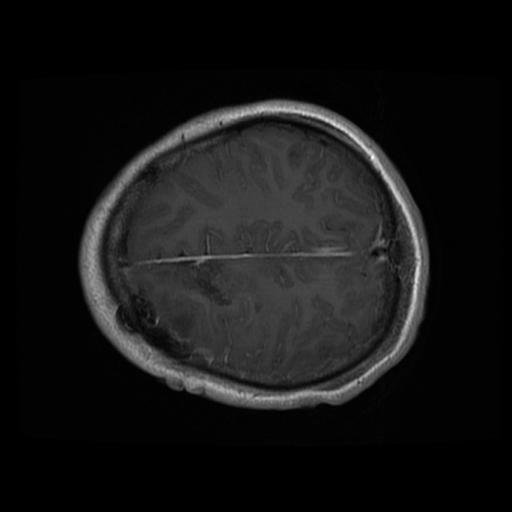glioma: (119, 293, 197, 349)
